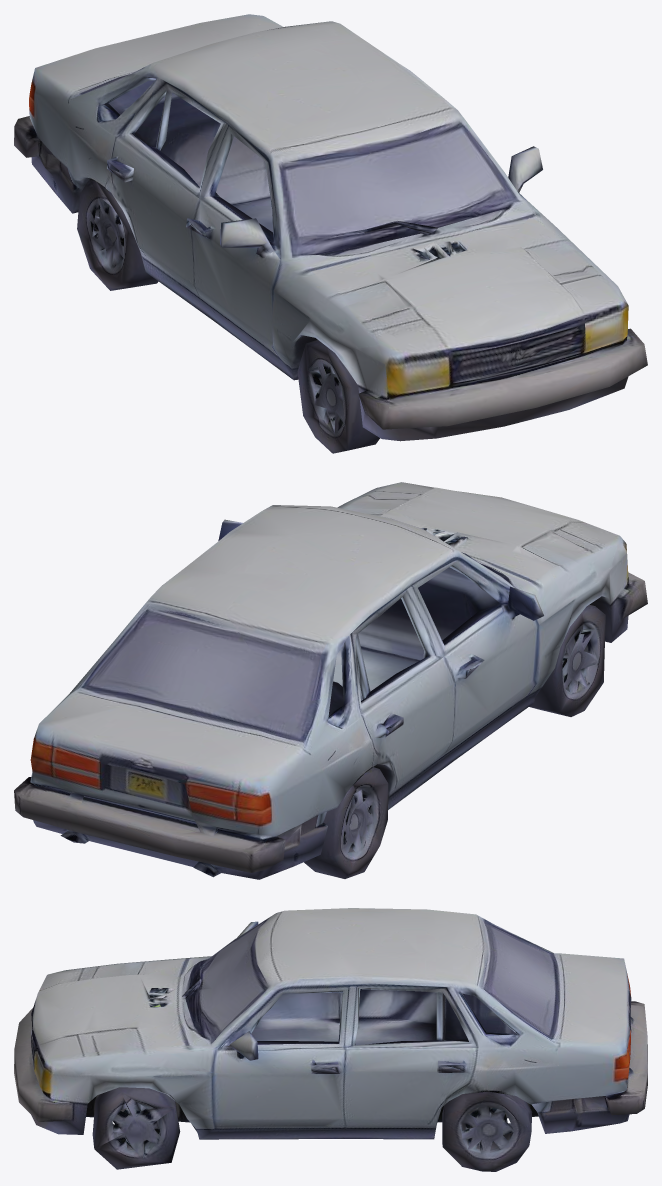
The model's file is sedan.glb.
The picture shows the model from 3 angles, top to bottom: view 1: azimuth 30°, elevation 25°; view 2: azimuth 150°, elevation 25°; view 3: azimuth 270°, elevation 25°; orthographic projection. The views are drawn at different scales.
Parts seen in each view (by area): view 1: tripo_node_eacce952-41a0-4000-8380-0040dff4047e; view 2: tripo_node_eacce952-41a0-4000-8380-0040dff4047e; view 3: tripo_node_eacce952-41a0-4000-8380-0040dff4047e.
Part boxes in pixels (<box>): tripo_node_eacce952-41a0-4000-8380-0040dff4047e: <box>14,14,647,453</box>; tripo_node_eacce952-41a0-4000-8380-0040dff4047e: <box>14,482,647,879</box>; tripo_node_eacce952-41a0-4000-8380-0040dff4047e: <box>14,908,647,1171</box>.
Size of the model in its own units: 0.4658 by 0.323 by 1.
Materials: 1 (1 with a texture image).
